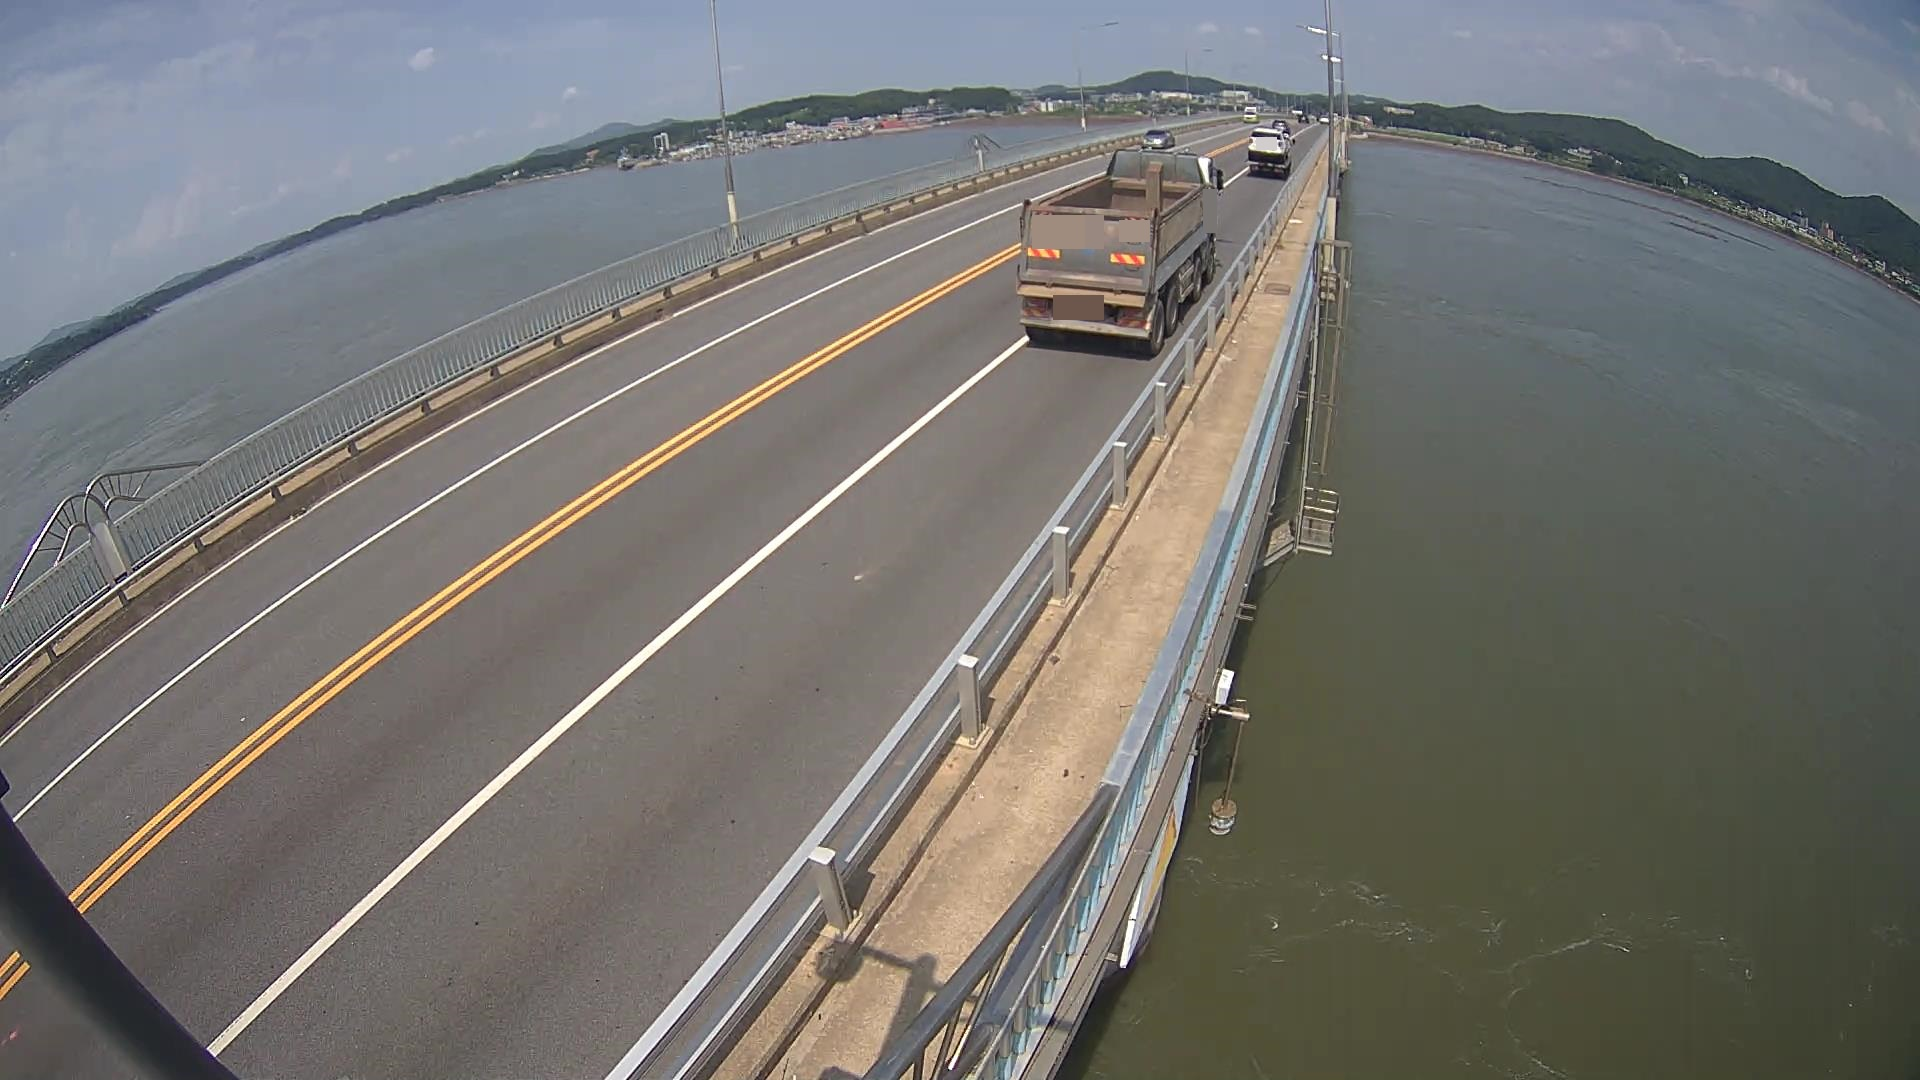정상차량: (1017, 146, 1224, 356)
